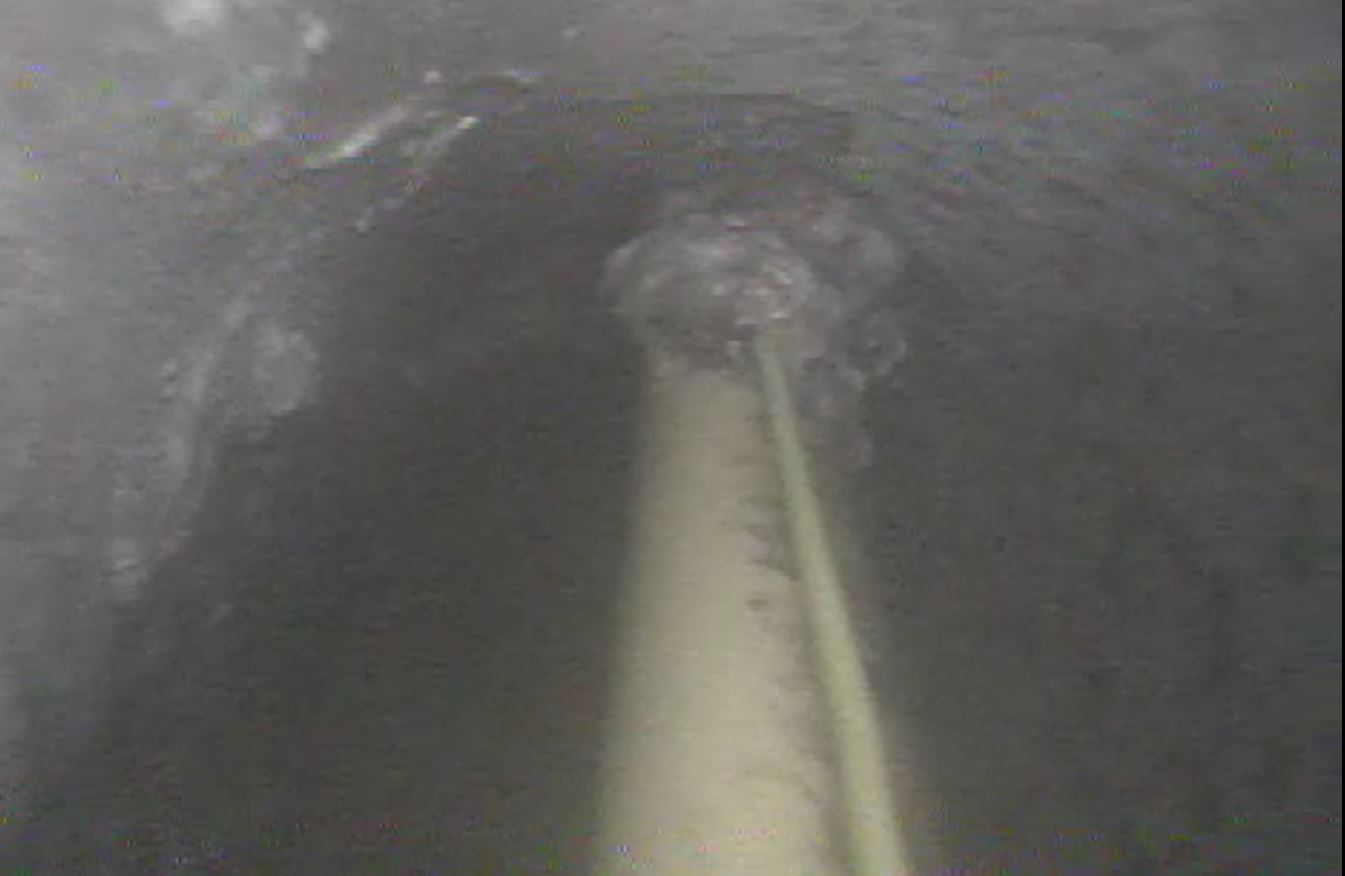cb: (560, 190, 951, 858)
